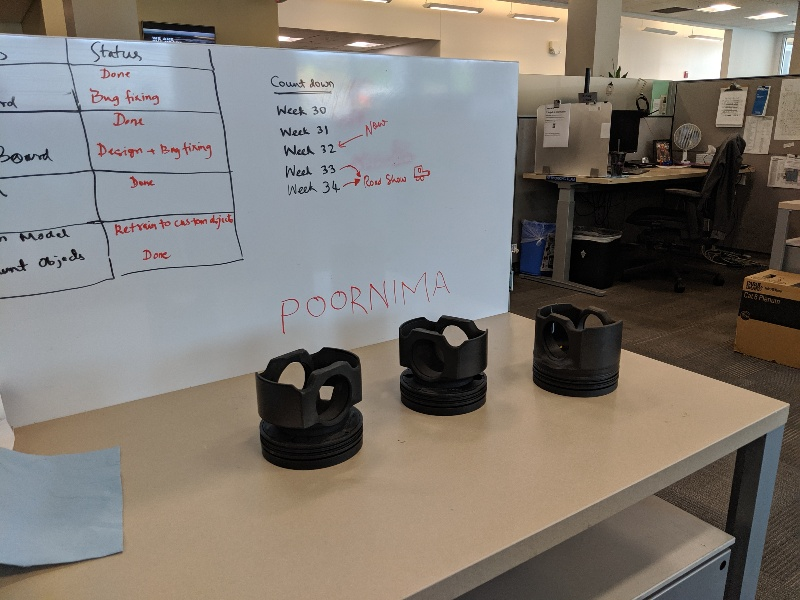piston: (250, 343, 372, 476), (391, 309, 499, 422), (523, 300, 632, 403)
